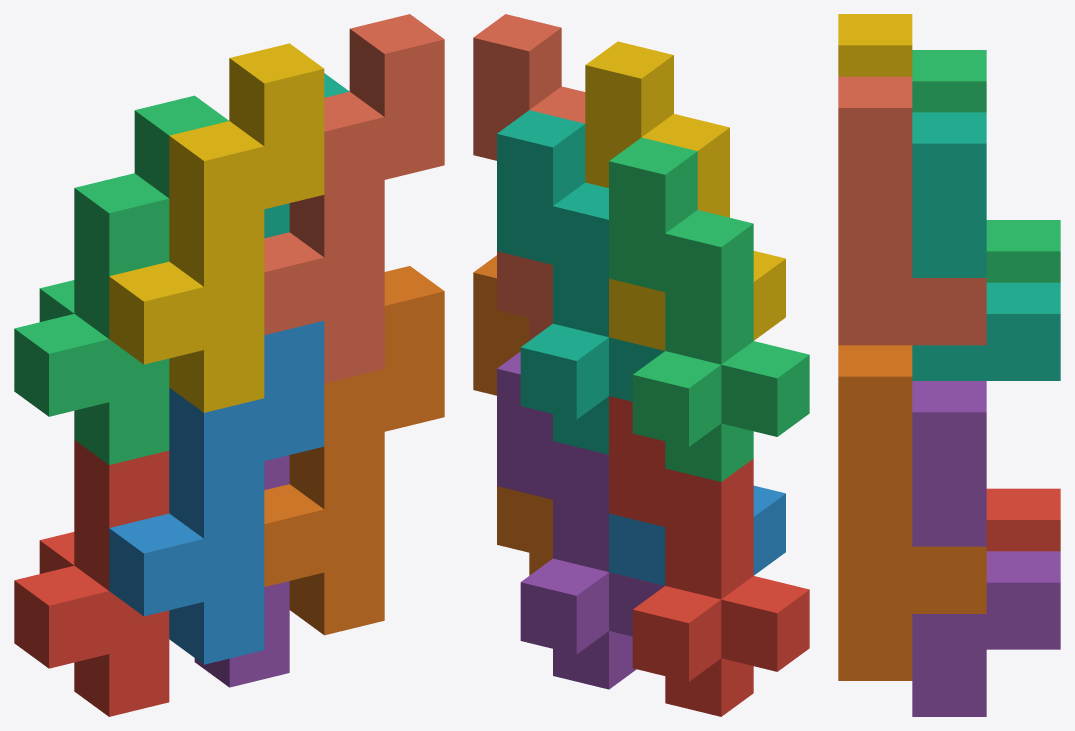
Rendered from tiling.obj.
3 renders of one model, left to right at view 1: azimuth 30°, elevation 25°; view 2: azimuth 150°, elevation 25°; view 3: azimuth 270°, elevation 25°, orthographic. The views are drawn at different scales.
Parts seen in each view (by area): view 1: copy_1_domain_4, copy_1_domain_2, copy_1_domain_8, copy_1_domain_6, copy_1_domain_3, copy_1_domain_1, copy_1_domain_5, copy_1_domain_7; view 2: copy_1_domain_3, copy_1_domain_1, copy_1_domain_7, copy_1_domain_5, copy_1_domain_4, copy_1_domain_8, copy_1_domain_6, copy_1_domain_2; view 3: copy_1_domain_6, copy_1_domain_5, copy_1_domain_8, copy_1_domain_7, copy_1_domain_3, copy_1_domain_1, copy_1_domain_4.
Boxes of the visible parts, <box> form: copy_1_domain_4: <box>109,43,324,412</box>; copy_1_domain_2: <box>109,321,324,664</box>; copy_1_domain_8: <box>264,14,444,383</box>; copy_1_domain_6: <box>264,266,444,635</box>; copy_1_domain_3: <box>14,95,228,464</box>; copy_1_domain_1: <box>14,440,169,716</box>; copy_1_domain_5: <box>194,455,289,687</box>; copy_1_domain_7: <box>264,73,349,238</box>; copy_1_domain_3: <box>609,137,809,481</box>; copy_1_domain_1: <box>609,396,809,716</box>; copy_1_domain_7: <box>497,110,664,454</box>; copy_1_domain_5: <box>497,351,664,689</box>; copy_1_domain_4: <box>585,41,785,350</box>; copy_1_domain_8: <box>473,14,585,340</box>; copy_1_domain_6: <box>473,255,552,575</box>; copy_1_domain_2: <box>609,485,785,585</box>; copy_1_domain_6: <box>838,345,986,680</box>; copy_1_domain_5: <box>912,381,1060,716</box>; copy_1_domain_8: <box>838,76,986,345</box>; copy_1_domain_7: <box>912,112,1060,380</box>; copy_1_domain_3: <box>912,50,1060,282</box>; copy_1_domain_1: <box>986,488,1060,551</box>; copy_1_domain_4: <box>838,14,912,76</box>.
Bounding box in the file's own units: 6 × 10 × 3.
